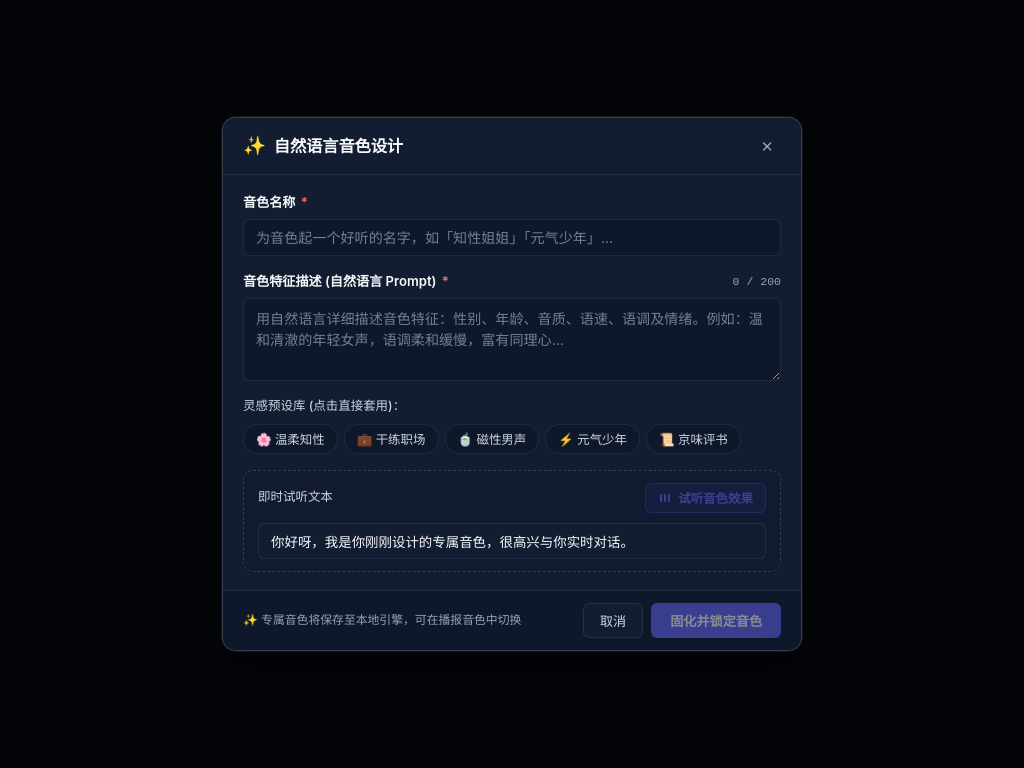
Scenario: fills name and instruction when inspiration chip is clicked
Click the button "🌸 温柔知性" at (290, 439), box [243,424,338,454]
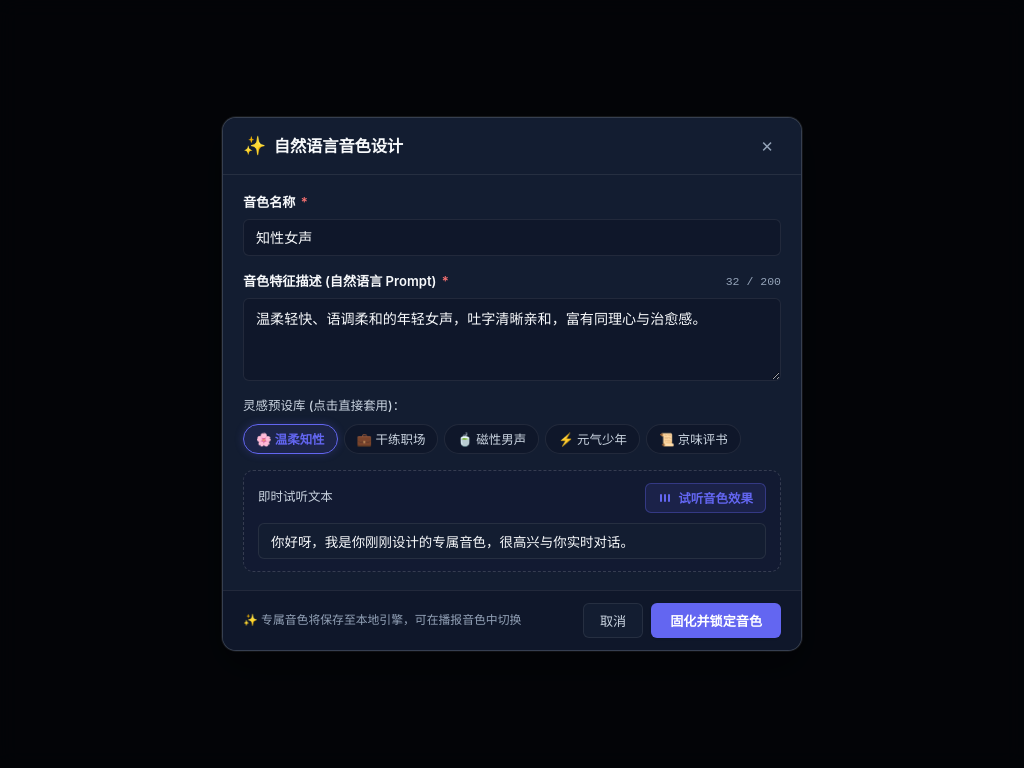
Check: the field labelled "音色名称 *" holds "知性女声", box [243,219,781,256]
